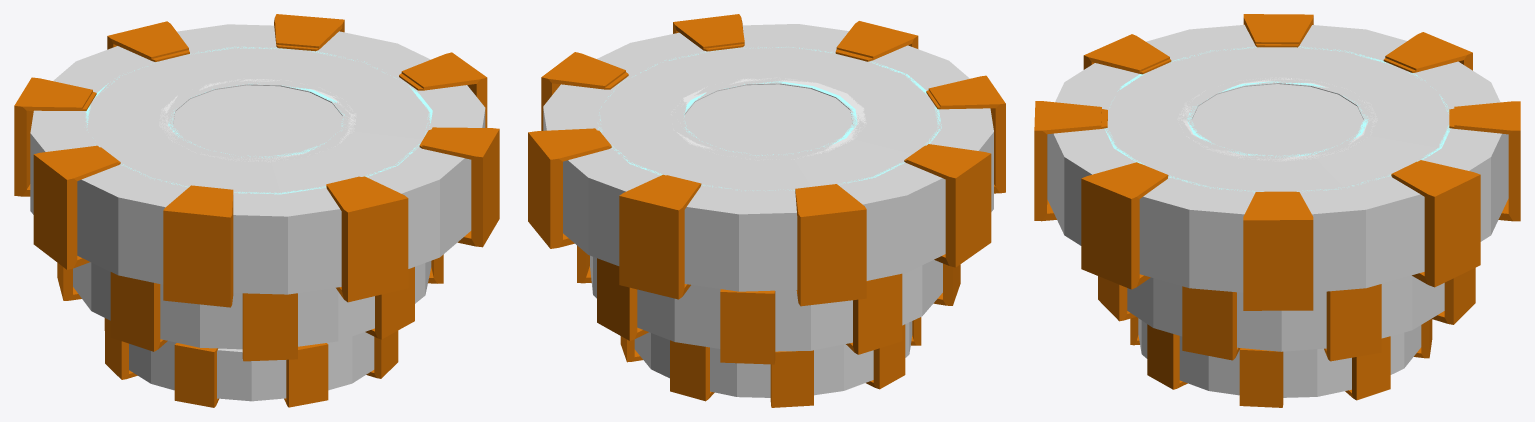
3 views of the same model, side by side, from view 1: azimuth 30°, elevation 25°; view 2: azimuth 150°, elevation 25°; view 3: azimuth 270°, elevation 25° (orthographic).
Visible parts, largest first — view 1: Cylinder, Cylinder.004, Cube.004, Cube.001, Cylinder.008, Cube.002, Cube.008, Cube.018, Cube.007, Cube.022, Cube.034, Cube.036 (+9 smaller); view 2: Cylinder, Cylinder.004, Cube.007, Cube, Cube.002, Cylinder.008, Cube.005, Cube.021, Cube.016, Cube.004, Cylinder.003, Cube.032 (+9 smaller); view 3: Cylinder, Cylinder.004, Cube.008, Cube.005, Cube.011, Cylinder.008, Cube.023, Cube.017, Cube.001, Cube, Cylinder.003, Cube.039 (+9 smaller).
Part boxes in pixels (box(x1,y1,x2,y2)): Cylinder: box(30, 24, 485, 294); Cylinder.004: box(73, 261, 431, 349); Cube.004: box(163, 185, 233, 307); Cube.001: box(326, 176, 408, 302); Cylinder.008: box(129, 332, 374, 401); Cube.002: box(33, 145, 120, 269); Cube.008: box(419, 127, 499, 247); Cube.018: box(242, 293, 297, 361); Cube.007: box(14, 77, 96, 196); Cube.022: box(110, 272, 167, 351); Cube.034: box(174, 343, 218, 407); Cube.036: box(284, 343, 328, 407); Cylinder: box(543, 24, 993, 291); Cylinder.004: box(590, 255, 942, 351); Cube.007: box(795, 184, 866, 306); Cube: box(619, 174, 701, 299); Cube.002: box(904, 144, 991, 267); Cylinder.008: box(634, 321, 912, 397); Cube.005: box(528, 128, 611, 248); Cube.021: box(720, 289, 775, 364); Cube.016: box(846, 273, 902, 354); Cube.004: box(926, 75, 1005, 193); Cylinder.003: box(592, 47, 946, 193); Cube.032: box(770, 350, 813, 407); Cylinder: box(1047, 24, 1508, 292); Cylinder.004: box(1127, 275, 1444, 351); Cube.008: box(1081, 162, 1168, 289); Cube.005: box(1391, 160, 1480, 287); Cube.011: box(1243, 216, 1313, 310); Cylinder.008: box(1138, 318, 1421, 397); Cube.023: box(1324, 284, 1381, 361); Cube.017: box(1182, 286, 1239, 360); Cube.001: box(1034, 101, 1107, 221); Cube: box(1449, 101, 1520, 221); Cylinder.003: box(1099, 45, 1455, 192); Cube.039: box(1239, 348, 1283, 407).
Bounding box in the file's own units: 106 × 55.3 × 106.
